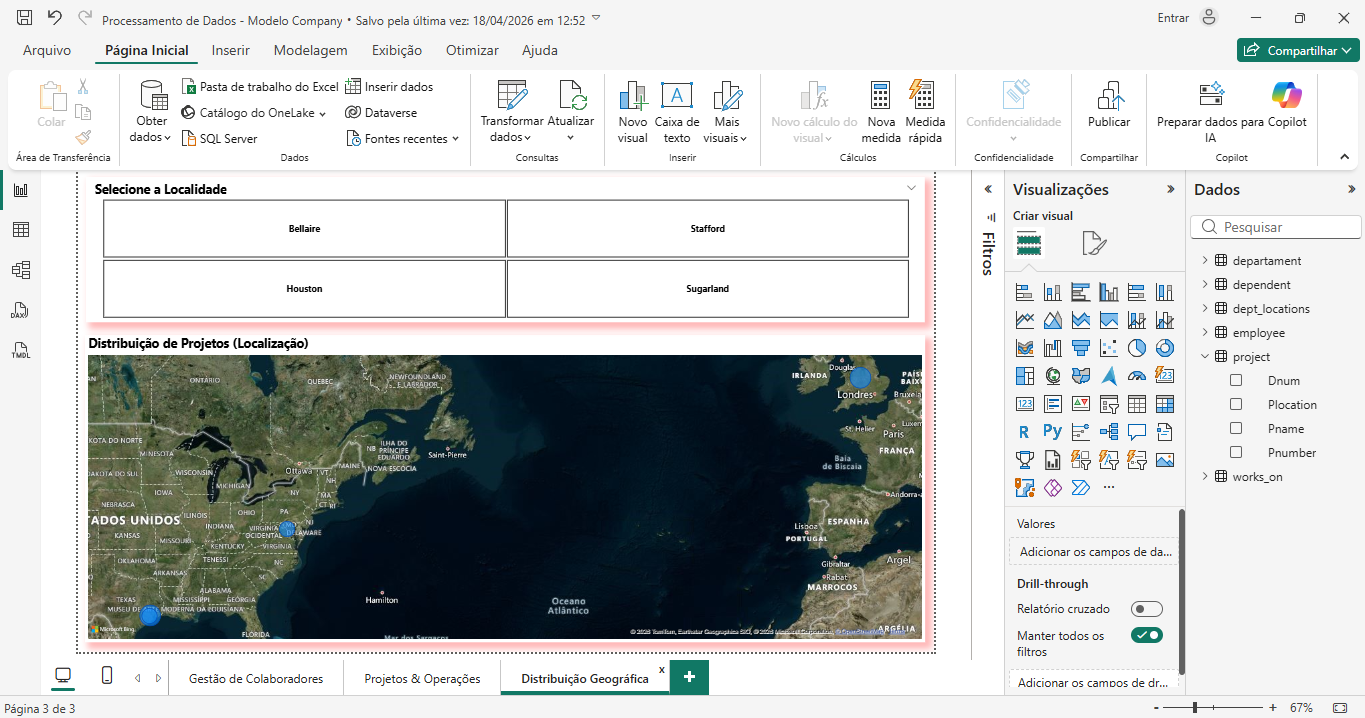

The page's visual inventory and layout, read from the dashboard file:
{"tool":"powerbi","page":{"name":"Distribuição Geográfica","canvas":[1280,720],"ordinal":2},"visuals":[{"type":"map","title":"Distribuição de Projetos (Localização)","fields":{"Category":["project.Plocation"],"Size":["CountNonNull(project.Pname)"]},"box":[10.5,246.5,1254.8,458.6],"z":0},{"type":"slicer","fields":{"Values":["project.Plocation"]},"box":[12,10.5,1253.3,216.6],"z":1000}]}

Visuals, with their boxes on the page's 1280x720 design canvas (x1, y1, x2, y2). These are canvas units, not pixel positions in the 1365x718 screenshot, which may show the page scaled, cropped or inside an application window:
"Distribuição de Projetos (Localização)" map: [left=10, top=246, right=1265, bottom=705]
slicer - project.Plocation: [left=12, top=10, right=1265, bottom=227]
